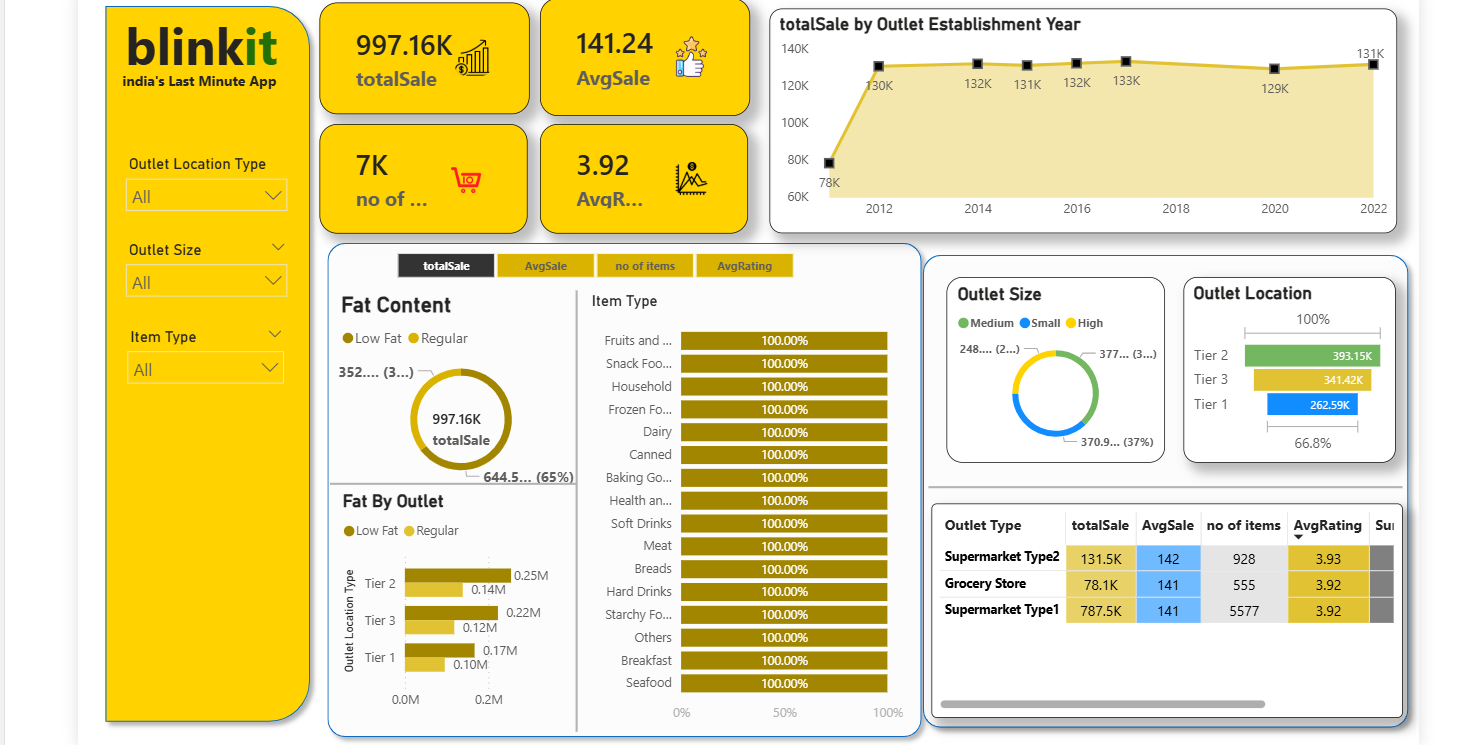

The dashboard page shown, as its layout file describes it:
{"tool":"powerbi","page":{"name":"Page 1","canvas":[1280,720],"ordinal":0},"visuals":[{"type":"shape","box":[16.7,5,213.3,701.7],"z":0},{"type":"textbox","box":[0,25,258.3,60],"z":1000},{"type":"textbox","box":[36.7,70,163.3,46.7],"z":2000},{"type":"cardVisual","fields":{"Data":["BlinkIT-Grocery-Data.totalSale"]},"box":[230.6,9.5,200.4,106.6],"z":3000},{"type":"cardVisual","fields":{"Data":["BlinkIT-Grocery-Data.AvgSale"]},"box":[440.6,6.4,200.4,112.9],"z":4000},{"type":"cardVisual","fields":{"Data":["BlinkIT-Grocery-Data.no of items"]},"box":[230.6,125.7,198.8,105],"z":5000},{"type":"cardVisual","fields":{"Data":["BlinkIT-Grocery-Data.Avg Rating"]},"box":[440.6,125.7,198.8,105],"z":6000},{"type":"shape","box":[229,230.6,585.3,489.9],"z":7000},{"type":"donutChart","title":" Fat Content","fields":{"Y":["BlinkIT-Grocery-Data.totalSale"],"Category":["BlinkIT-Grocery-Data.Item Fat Content"]},"box":[246,286,238,190],"z":8000},{"type":"slicer","fields":{"Values":["Metrics.Metrics"]},"box":[279.9,241.8,427.9,33.4],"z":9000},{"type":"cardVisual","fields":{"Data":["BlinkIT-Grocery-Data.totalSale"]},"box":[310,382,120,68],"z":10000},{"type":"clusteredBarChart","title":"Fat By Outlet ","fields":{"Y":["BlinkIT-Grocery-Data.totalSale"],"Series":["BlinkIT-Grocery-Data.Item Fat Content"],"Category":["BlinkIT-Grocery-Data.Outlet Location Type"]},"box":[248,476,220,218],"z":11000},{"type":"shape","box":[240.2,450.1,235.4,39.8],"z":12000},{"type":"shape","box":[419.9,284.7,112.9,421.5],"z":13000},{"type":"hundredPercentStackedBarChart","title":"Item Type","fields":{"Y":["BlinkIT-Grocery-Data.totalSale"],"Category":["BlinkIT-Grocery-Data.Item Type"]},"box":[485.1,286.3,307,419.9],"z":14000},{"type":"shape","box":[798,242.3,481.5,469.4],"z":15000},{"type":"lineChart","fields":{"Category":["BlinkIT-Grocery-Data.Outlet Establishment Year"],"Y":["BlinkIT-Grocery-Data.totalSale"]},"box":[660.1,15.9,599.7,214.7],"z":16000},{"type":"donutChart","title":"Outlet Size","fields":{"Y":["BlinkIT-Grocery-Data.totalSale"],"Category":["BlinkIT-Grocery-Data.Outlet Size"]},"box":[829.8,272.6,209,177.2],"z":17000},{"type":"funnel","title":"Outlet Location ","fields":{"Y":["BlinkIT-Grocery-Data.totalSale"],"Category":["BlinkIT-Grocery-Data.Outlet Location Type"]},"box":[1055.4,272.6,202.9,177.2],"z":18000},{"type":"shape","box":[811.6,469.4,452.7,6.1],"z":19000},{"type":"pivotTable","fields":{"Rows":["BlinkIT-Grocery-Data.Outlet Type"],"Values":["BlinkIT-Grocery-Data.totalSale","BlinkIT-Grocery-Data.AvgSale","BlinkIT-Grocery-Data.no of items","BlinkIT-Grocery-Data.AvgRating","Sum(BlinkIT-Grocery-Data.Item Visibility)"]},"box":[814.6,489.1,449.7,204.4],"z":20000},{"type":"slicer","fields":{"Values":["BlinkIT-Grocery-Data.Outlet Location Type"]},"box":[36.3,149.9,174.1,69.7],"z":21000},{"type":"slicer","fields":{"Values":["BlinkIT-Grocery-Data.Outlet Size"]},"box":[36.3,231.7,174.1,69.7],"z":22000},{"type":"slicer","fields":{"Values":["BlinkIT-Grocery-Data.Item Type"]},"box":[37.9,315,169.6,80.3],"z":23000}]}

Visuals, with their boxes in screenshot pixels (x1, y1, x2, y2):
shape: crop(83, 0, 309, 733)
textbox: crop(66, 11, 339, 75)
textbox: crop(104, 59, 277, 108)
cardVisual - BlinkIT-Grocery-Data.totalSale: crop(310, 0, 522, 107)
cardVisual - BlinkIT-Grocery-Data.AvgSale: crop(532, 0, 744, 111)
cardVisual - BlinkIT-Grocery-Data.no of items: crop(310, 118, 520, 229)
cardVisual - BlinkIT-Grocery-Data.Avg Rating: crop(532, 118, 742, 229)
shape: crop(308, 229, 928, 744)
" Fat Content" donutChart: crop(326, 287, 578, 488)
slicer - Metrics.Metrics: crop(362, 240, 815, 276)
cardVisual - BlinkIT-Grocery-Data.totalSale: crop(394, 389, 521, 461)
"Fat By Outlet " clusteredBarChart: crop(328, 488, 561, 719)
shape: crop(320, 461, 569, 503)
shape: crop(510, 286, 630, 732)
"Item Type" hundredPercentStackedBarChart: crop(579, 288, 904, 732)
shape: crop(910, 241, 1420, 738)
lineChart - BlinkIT-Grocery-Data.Outlet Establishment Year x BlinkIT-Grocery-Data.totalSale: crop(764, 1, 1399, 229)
"Outlet Size" donutChart: crop(944, 273, 1165, 461)
"Outlet Location " funnel: crop(1183, 273, 1397, 461)
shape: crop(925, 481, 1404, 488)
pivotTable - BlinkIT-Grocery-Data.Outlet Type x BlinkIT-Grocery-Data.totalSale: crop(928, 502, 1404, 719)
slicer - BlinkIT-Grocery-Data.Outlet Location Type: crop(104, 143, 288, 217)
slicer - BlinkIT-Grocery-Data.Outlet Size: crop(104, 230, 288, 304)
slicer - BlinkIT-Grocery-Data.Item Type: crop(106, 318, 285, 403)
